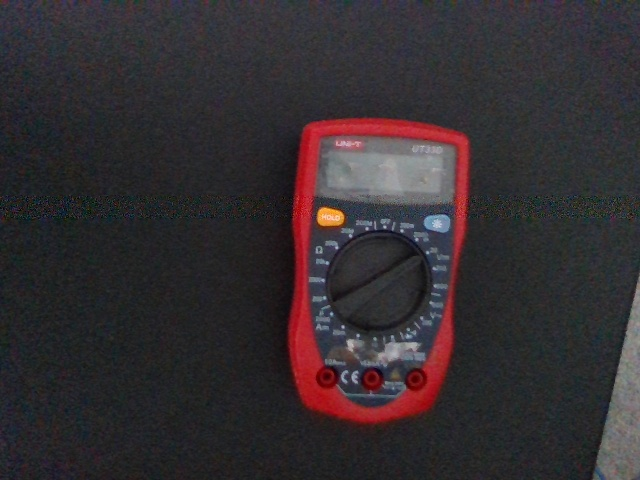multimeter: (285, 118, 472, 425)
